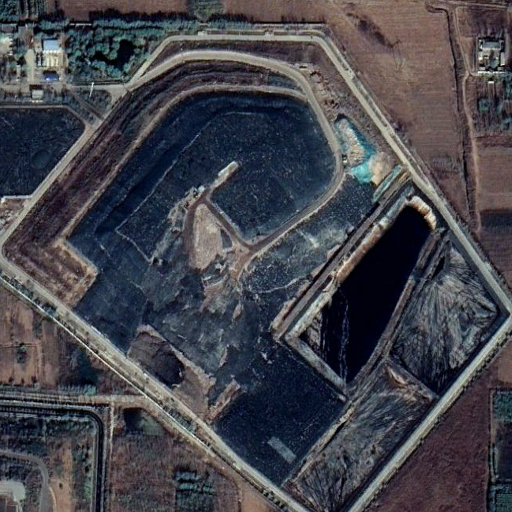lf: (8, 33, 510, 512)
